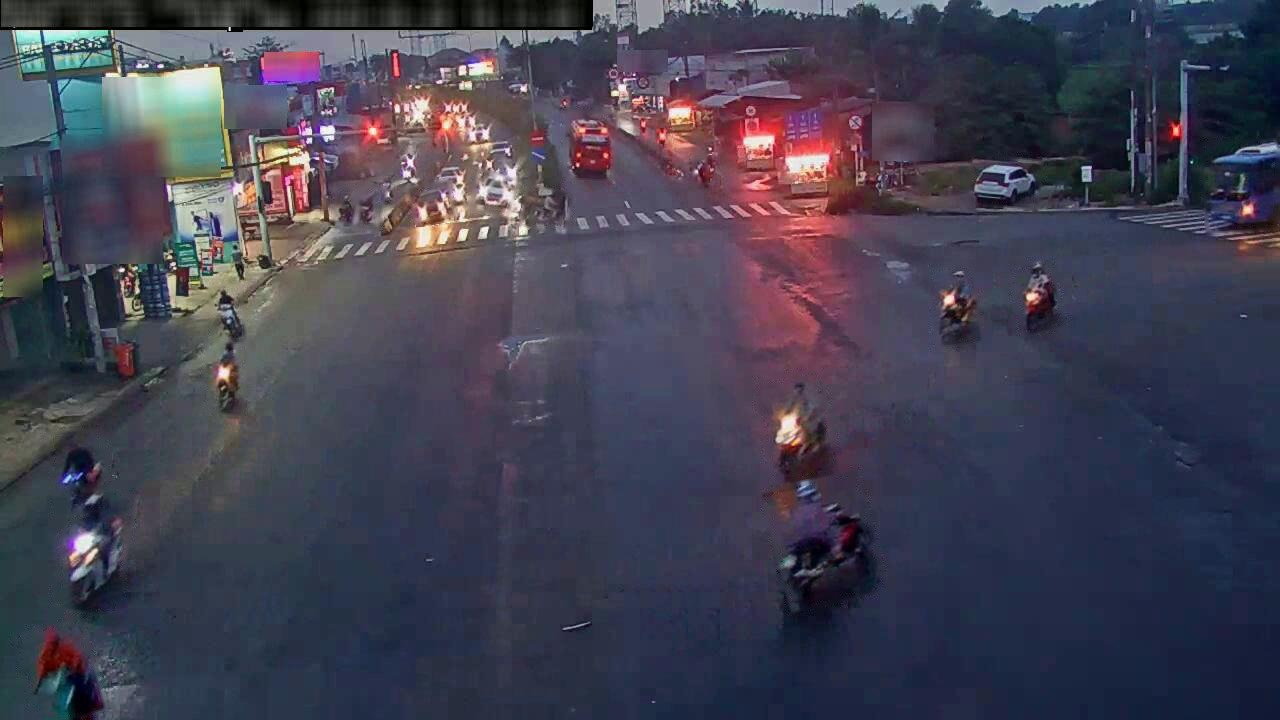Bus: (1208, 141, 1279, 227), (570, 118, 611, 175)
Car: (973, 164, 1036, 205), (414, 186, 451, 224), (481, 179, 510, 206), (437, 166, 464, 182), (508, 81, 526, 95)
Motorcycle: (776, 504, 871, 614), (66, 495, 123, 607), (217, 381, 236, 412)
Motorcyclist: (33, 629, 103, 719), (772, 381, 829, 477), (59, 443, 102, 507), (938, 270, 977, 340), (1023, 262, 1056, 329), (522, 190, 567, 231), (215, 342, 239, 411), (216, 290, 243, 342), (357, 189, 383, 224), (694, 156, 714, 189), (338, 193, 356, 226)
Pedestrian: (233, 246, 244, 280)
